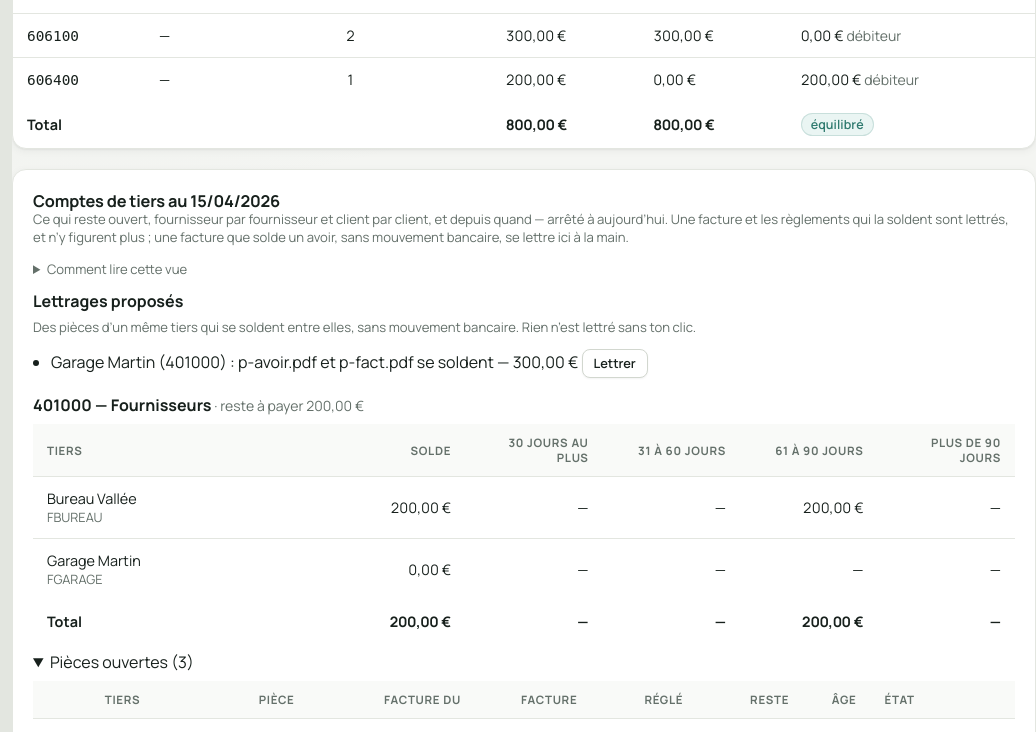
StatistiquesTab — le lettrage fait à la main › propose la facture et l’avoir qui la solde, et ne lettre qu’au clic
This screenshot has width=1036, height=732.
(page scrolled)
expect the heading "Lettrages proposés" is shown: met, box [33,290,183,312]
expect the list item "Garage Martin (401000) : p-avoir.pdf et p-fact.pdf se soldent" is shown: met, box [51,351,578,373]
What coordinates should you click on to do the following:
click the button "Lettrer"
I would click on:
 (615, 363)
Its box is [582,349,648,378].
(page scrolled)
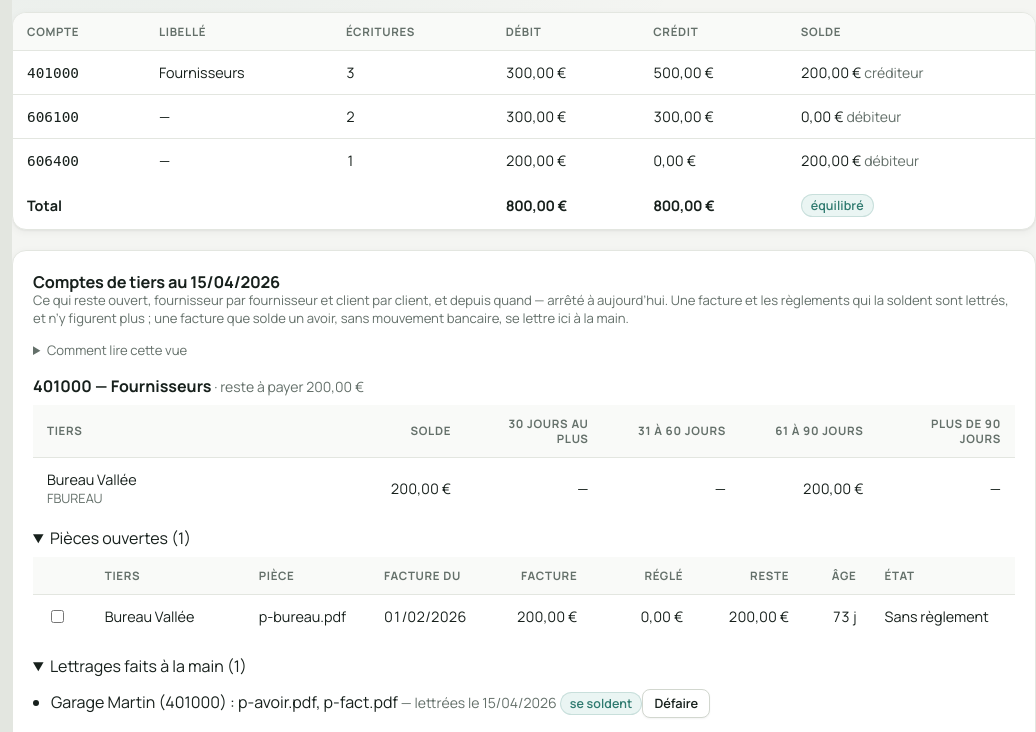
expect the text "se soldent" is shown: met, box [560,692,642,715]
expect the heading "Lettrages faits à la main (1)" is shown: met, box [50,655,247,677]
expect no headings "Lettrages proposés" are shown: met
